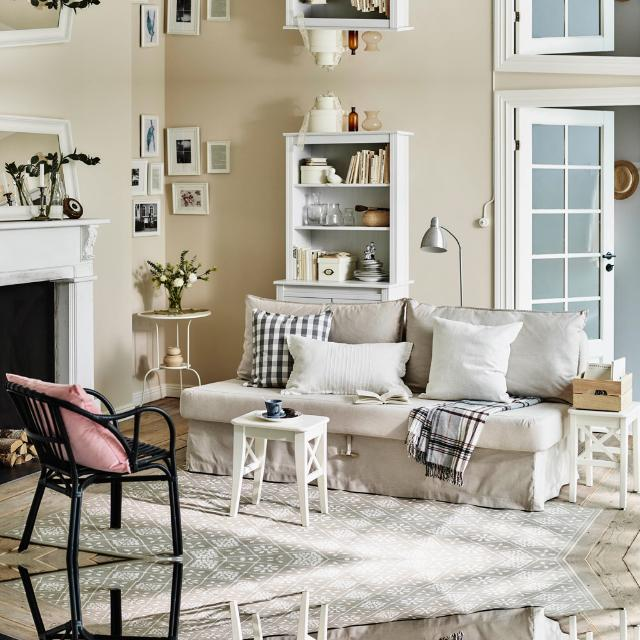armchair: (6, 380, 182, 558), (19, 559, 182, 640)
couch: (180, 295, 589, 509)
lamp: (420, 216, 462, 306)
pillow: (420, 315, 522, 401), (282, 334, 412, 394), (245, 308, 332, 387)
plant: (8, 150, 100, 211), (146, 250, 216, 308)
rug: (6, 465, 615, 558), (6, 558, 615, 640)
shelf: (274, 130, 412, 301)
stool: (230, 411, 329, 526), (568, 401, 640, 509)
table: (138, 310, 211, 403)
wall-art: (166, 126, 200, 175), (172, 181, 209, 214), (166, 0, 199, 34), (132, 199, 160, 236), (140, 114, 159, 156), (140, 4, 159, 46), (208, 140, 230, 172), (131, 159, 148, 195), (149, 161, 164, 193), (208, 0, 230, 20)
